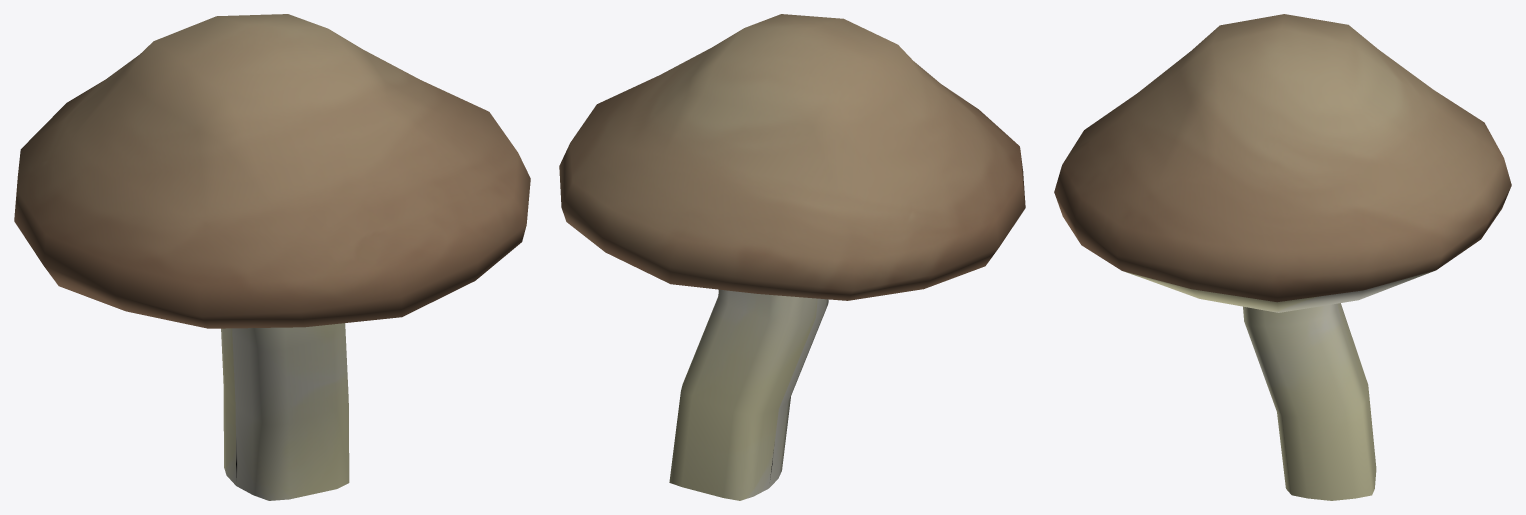
File: MushroomBall4_Deco.fbx
The picture shows the model from 3 angles, left to right: view 1: azimuth 30°, elevation 25°; view 2: azimuth 150°, elevation 25°; view 3: azimuth 270°, elevation 25°; orthographic projection. The views are drawn at different scales.
Parts seen in each view (by area): view 1: MushroomBall4; view 2: MushroomBall4; view 3: MushroomBall4.
Boxes of the visible parts, left/top/right/bottom form: MushroomBall4: left=14, top=14, right=530, bottom=500; MushroomBall4: left=559, top=14, right=1025, bottom=500; MushroomBall4: left=1054, top=14, right=1511, bottom=500.
Size of the model in its own units: 12.75 by 12.97 by 12.69.
